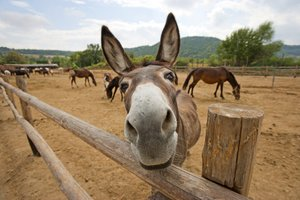donkey: (97, 14, 203, 176)
